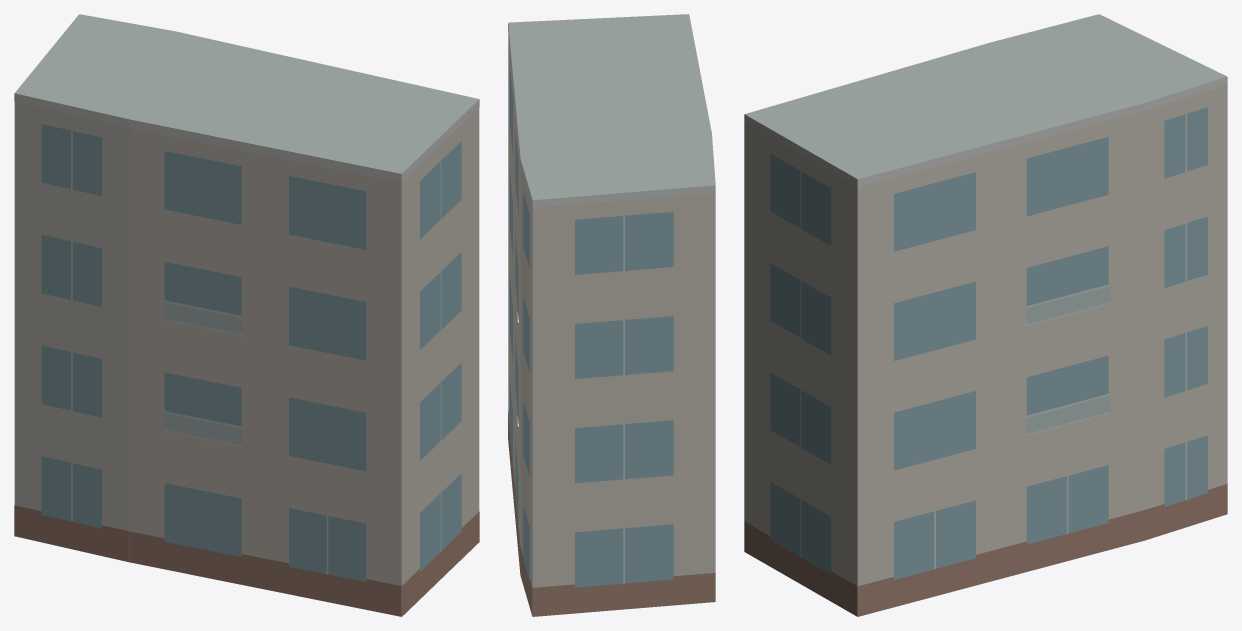
Rendered from survey-upis-32469546.glb.
The picture shows the model from 3 angles, left to right: view 1: azimuth 30°, elevation 25°; view 2: azimuth 150°, elevation 25°; view 3: azimuth 270°, elevation 25°; orthographic projection. The views are drawn at different scales.
Parts seen in each view (by area): view 1: survey-upis-32469546.tmp; view 2: survey-upis-32469546.tmp; view 3: survey-upis-32469546.tmp.
Boxes of the visible parts, <box> form: survey-upis-32469546.tmp: <box>14,14,479,616</box>; survey-upis-32469546.tmp: <box>508,14,715,616</box>; survey-upis-32469546.tmp: <box>744,14,1227,616</box>.
Size of the model in its own units: 10.66 by 13.15 by 13.17.
